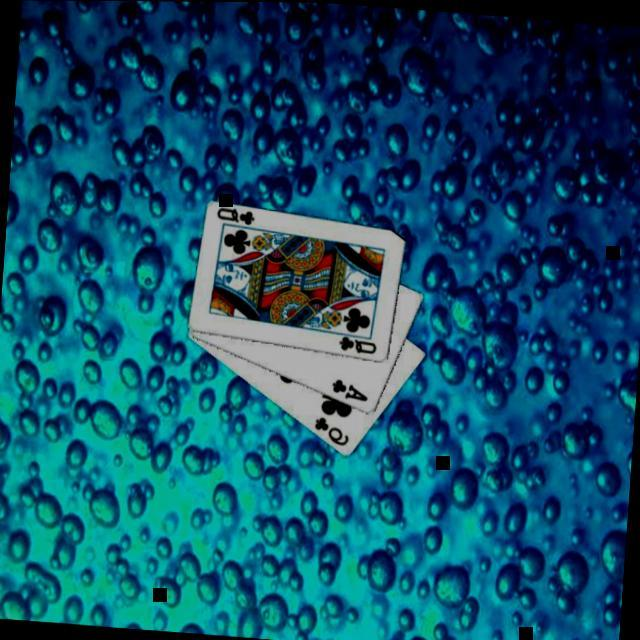6C: (309, 414, 352, 450)
AC: (327, 376, 370, 405)
QC: (334, 333, 378, 358), (212, 206, 256, 229)
